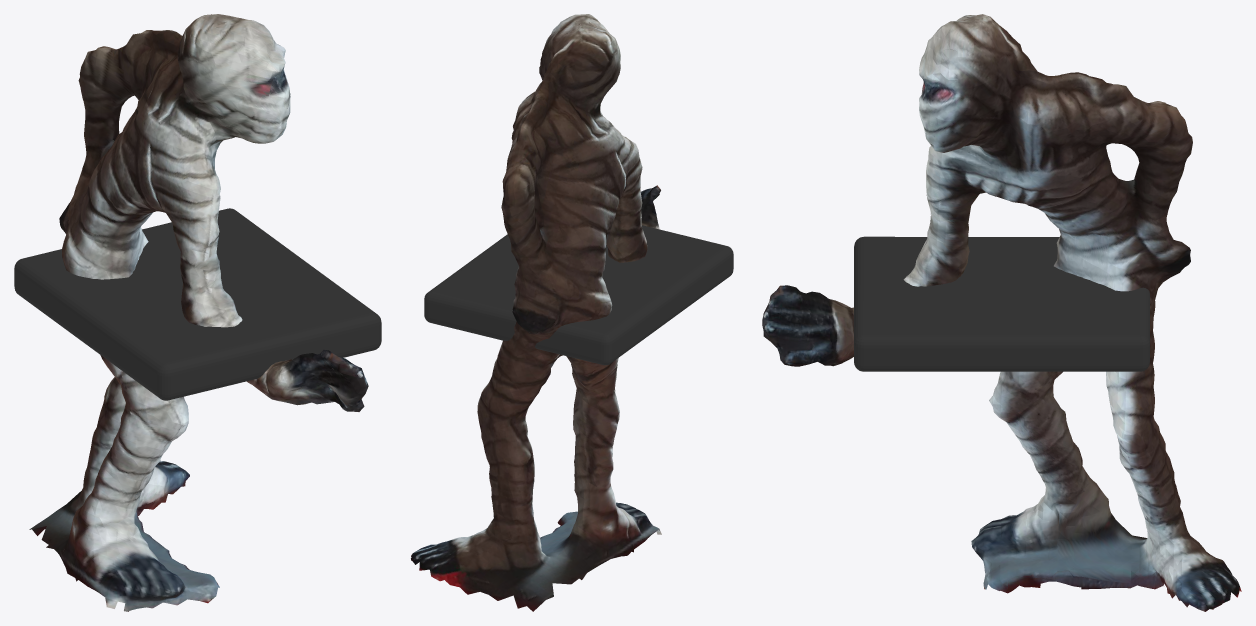
The model's file is mummy.glb.
The picture shows the model from 3 angles, left to right: view 1: azimuth 30°, elevation 25°; view 2: azimuth 150°, elevation 25°; view 3: azimuth 270°, elevation 25°; orthographic projection. The views are drawn at different scales.
Visible parts, largest first — view 1: Object_2, Object_3; view 2: Object_2, Object_3; view 3: Object_2, Object_3.
Boxes of the visible parts, left/top/right/bottom form: Object_2: left=29, top=14, right=368, bottom=611; Object_3: left=14, top=208, right=381, bottom=400; Object_2: left=411, top=14, right=661, bottom=611; Object_3: left=424, top=225, right=733, bottom=365; Object_2: left=762, top=14, right=1241, bottom=611; Object_3: left=854, top=236, right=1149, bottom=371.
Size of the model in its own units: 41775 by 106549 by 79935.
Materials: 2 (1 with a texture image).
